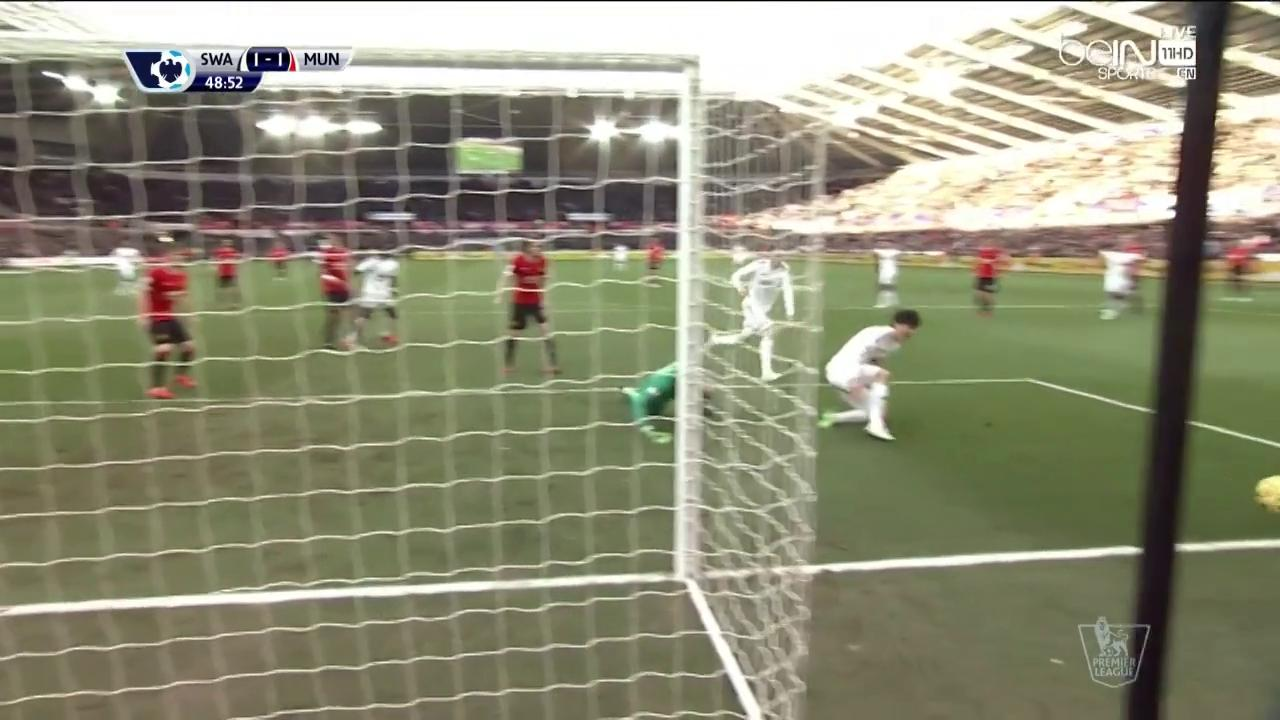football: (1255, 474, 1280, 517)
